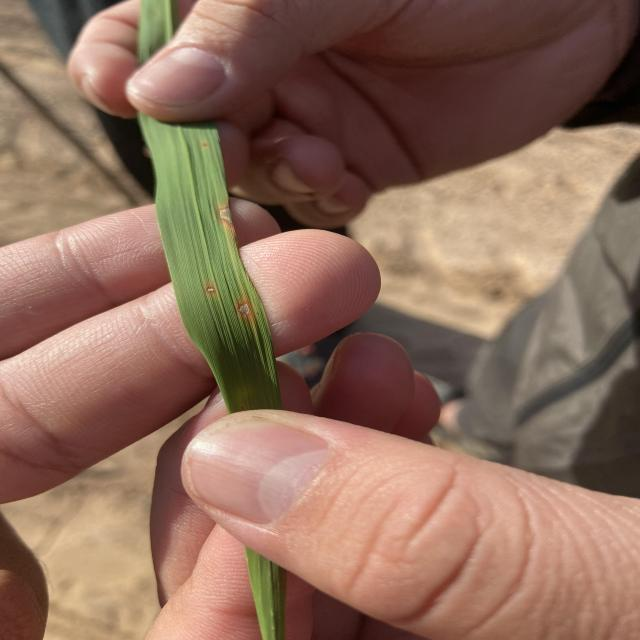Dao on: (218, 205, 234, 232), (238, 298, 253, 321), (204, 285, 217, 294), (241, 405, 244, 410)
